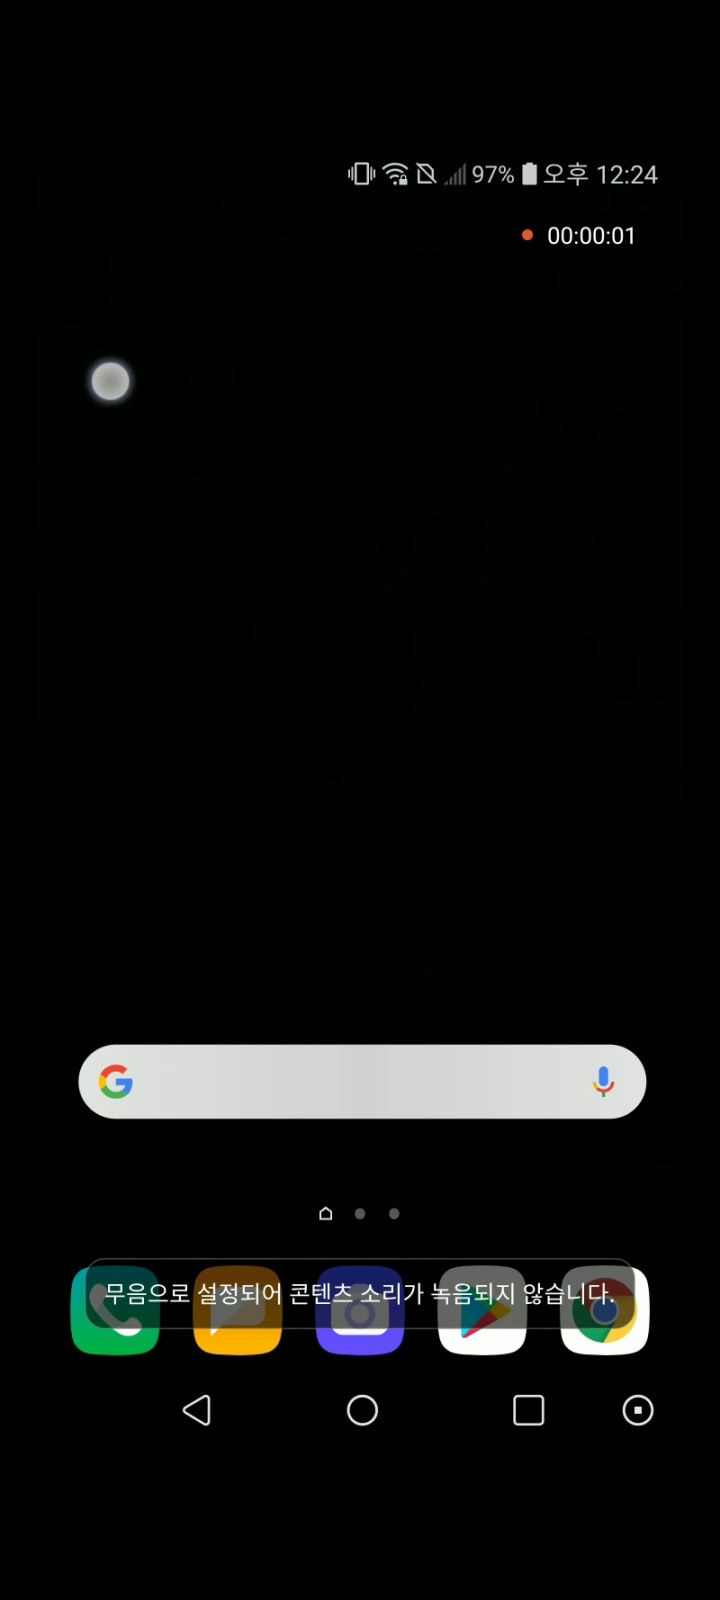Cursor: (90, 359, 135, 404)
